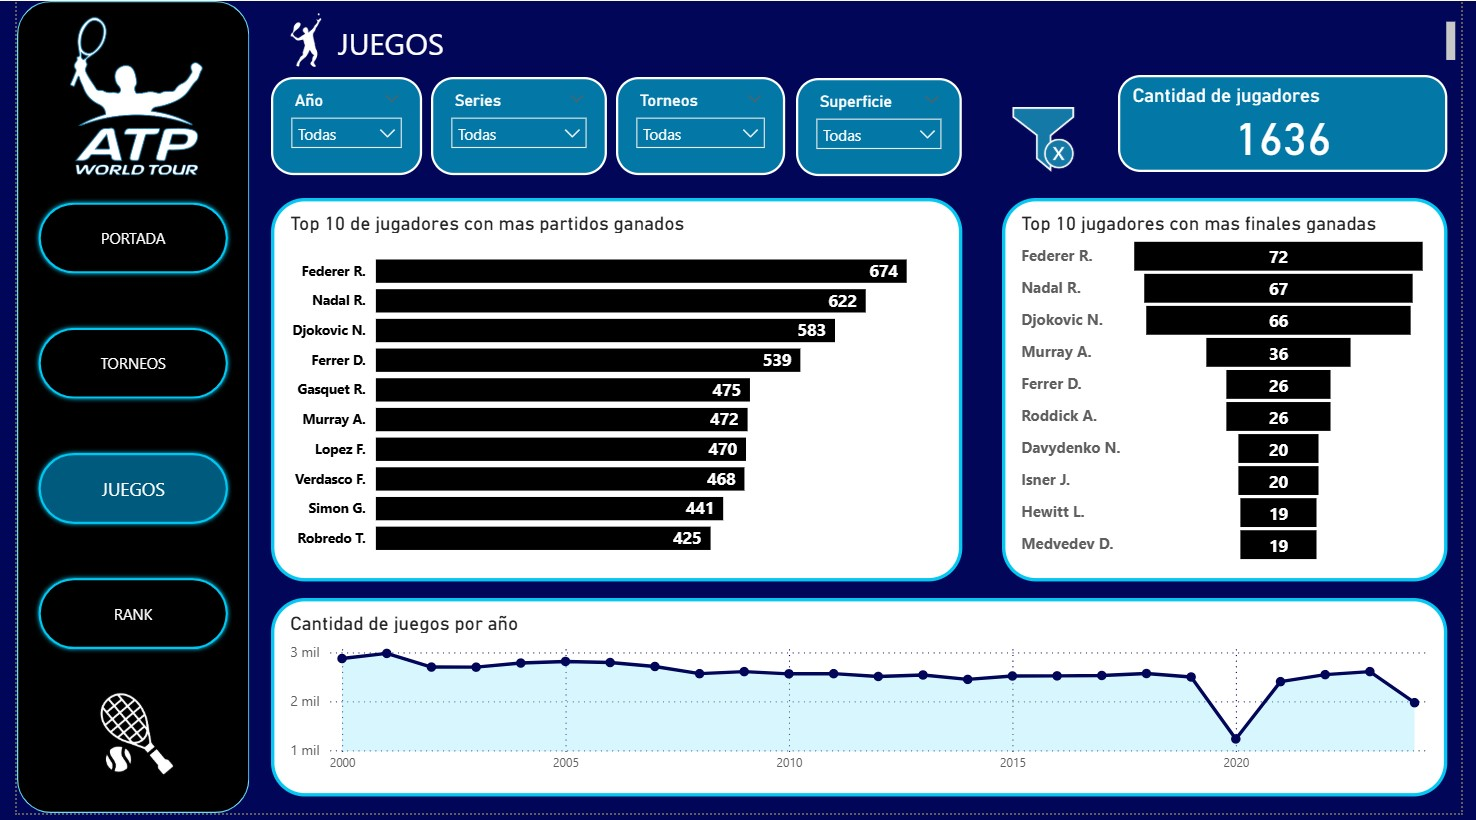

The dashboard page shown, as its layout file describes it:
{"tool":"powerbi","page":{"name":"JUEGOS","canvas":[1280,720],"ordinal":2},"visuals":[{"type":"slicer","fields":{"Values":["Series.Series"]},"box":[367.1,67.4,156.1,86.9],"z":0},{"type":"slicer","fields":{"Values":["Tournament.Tournament"]},"box":[531.1,67.4,149.9,86.9],"z":1000},{"type":"slicer","fields":{"Values":["Calendario.Año"]},"box":[225.2,67.4,133.9,86.9],"z":2000},{"type":"textbox","box":[279.3,13.3,1001.1,45.2],"z":3000},{"type":"slicer","fields":{"Values":["Surface.Surface"]},"box":[690.7,68.3,147.2,86.9],"z":4000},{"type":"clusteredBarChart","title":"Top 10 de jugadores con mas partidos ganados","fields":{"Y":["*MEDIDAS.TOP_WIN"],"Category":["Player.Player"]},"box":[225,175,613,340],"z":5000},{"type":"card","title":"Cantidad de jugadores ","fields":{"Values":["*MEDIDAS.PLAYERS"]},"box":[976,66,292,86],"z":6000},{"type":"lineChart","title":"Cantidad de juegos por año","fields":{"Category":["Calendario.Año"],"Y":["CountNonNull(Atp.ID_Player_Winner)"]},"box":[225,529,1043,176],"z":7000},{"type":"funnel","title":"Top 10 jugadores con mas finales ganadas","fields":{"Category":["Player.Player"],"Y":["*MEDIDAS.TOP_WIN"]},"box":[873,175,395,340],"z":8000},{"type":"image","box":[225.2,3.5,62.1,62.1],"z":9000},{"type":"image","box":[873,85.1,74,75.9],"z":10000},{"type":"group","id":"g1","title":"logo ","box":[0,0,214,720],"z":11000},{"type":"shape","box":[0,0,206,720],"z":12500,"group":"g1"},{"type":"pageNavigator","box":[15,175,176,519],"z":13000,"group":"g1"},{"type":"image","box":[0,8,214,154],"z":14000,"group":"g1"},{"type":"image","box":[36,604,134,90],"z":16000,"group":"g1"}]}

Visuals, with their boxes on the page's 1280x720 design canvas (x1, y1, x2, y2). These are canvas units, not pixel positions in the 1476x820 screenshot, which may show the page scaled, cropped or inside an application window:
slicer - Series.Series: (left=367, top=67, right=523, bottom=154)
slicer - Tournament.Tournament: (left=531, top=67, right=681, bottom=154)
slicer - Calendario.Año: (left=225, top=67, right=359, bottom=154)
textbox: (left=279, top=13, right=1280, bottom=58)
slicer - Surface.Surface: (left=691, top=68, right=838, bottom=155)
"Top 10 de jugadores con mas partidos ganados" clusteredBarChart: (left=225, top=175, right=838, bottom=515)
"Cantidad de jugadores " card: (left=976, top=66, right=1268, bottom=152)
"Cantidad de juegos por año" lineChart: (left=225, top=529, right=1268, bottom=705)
"Top 10 jugadores con mas finales ganadas" funnel: (left=873, top=175, right=1268, bottom=515)
image: (left=225, top=4, right=287, bottom=66)
image: (left=873, top=85, right=947, bottom=161)
"logo " group: (left=0, top=0, right=214, bottom=720)
shape: (left=0, top=0, right=206, bottom=720)
pageNavigator: (left=15, top=175, right=191, bottom=694)
image: (left=0, top=8, right=214, bottom=162)
image: (left=36, top=604, right=170, bottom=694)
